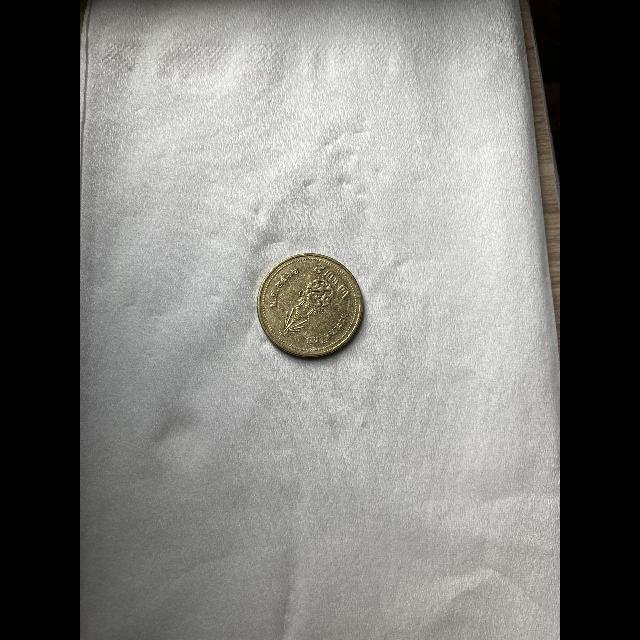2 Bath: (260, 249, 367, 364)
